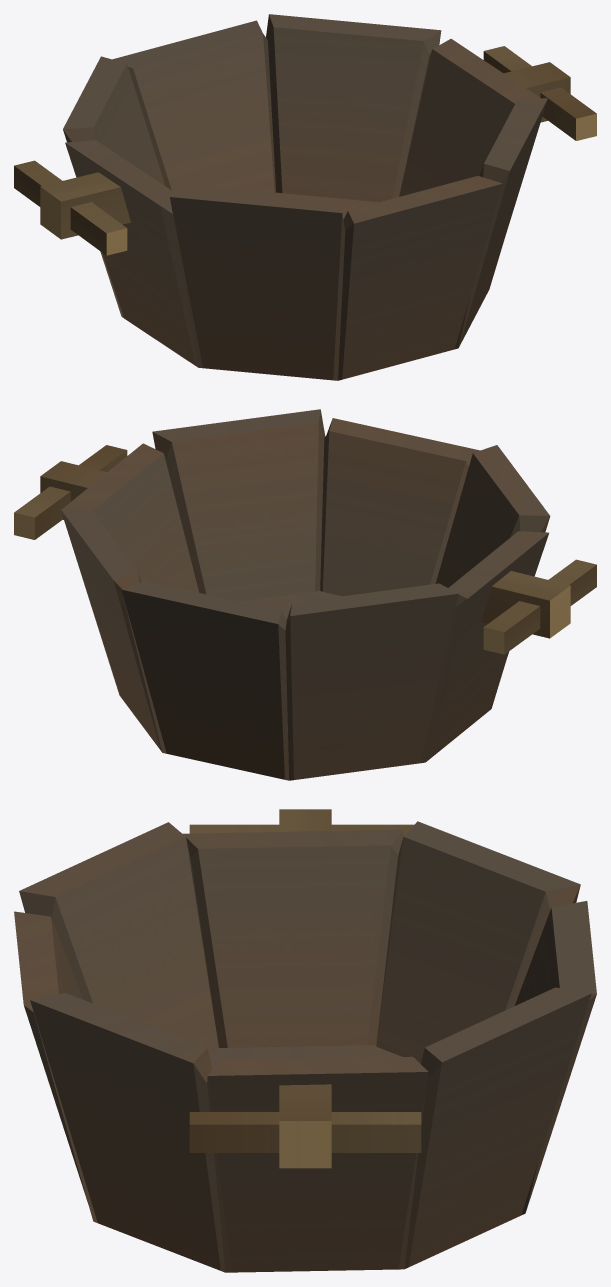
Rendered from Bucket_2A.fbx.
3 renders of one model, top to bottom at view 1: azimuth 30°, elevation 25°; view 2: azimuth 150°, elevation 25°; view 3: azimuth 270°, elevation 25°, orthographic. The views are drawn at different scales.
Visible parts, largest first — view 1: polySurface9709; view 2: polySurface9709; view 3: polySurface9709.
Part boxes in pixels (bbox=[...]): polySurface9709: bbox=[14, 14, 596, 380]; polySurface9709: bbox=[14, 409, 596, 780]; polySurface9709: bbox=[14, 809, 596, 1272].
Size of the model in its own units: 176 by 63.56 by 139.
